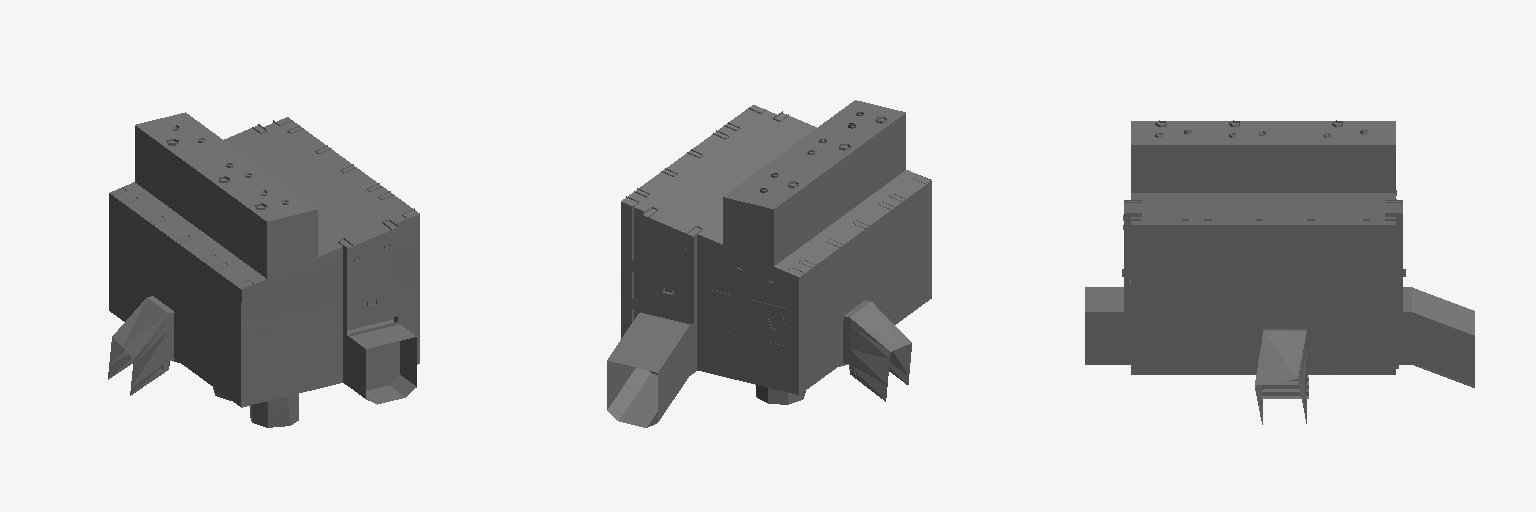
Rendered from xxx.obj.
3 views of the same model, side by side, from view 1: azimuth 30°, elevation 25°; view 2: azimuth 150°, elevation 25°; view 3: azimuth 270°, elevation 25° (orthographic).
Parts seen in each view (by area): view 1: Level6_Zone_4; view 2: Level6_Zone_4; view 3: Level6_Zone_4.
Boxes of the visible parts, x1,y1,x2,y2 form: Level6_Zone_4: [108, 112, 419, 427]; Level6_Zone_4: [607, 100, 931, 427]; Level6_Zone_4: [1085, 120, 1474, 424].
Size of the model in its own units: 8.24 by 6.35 by 10.42.